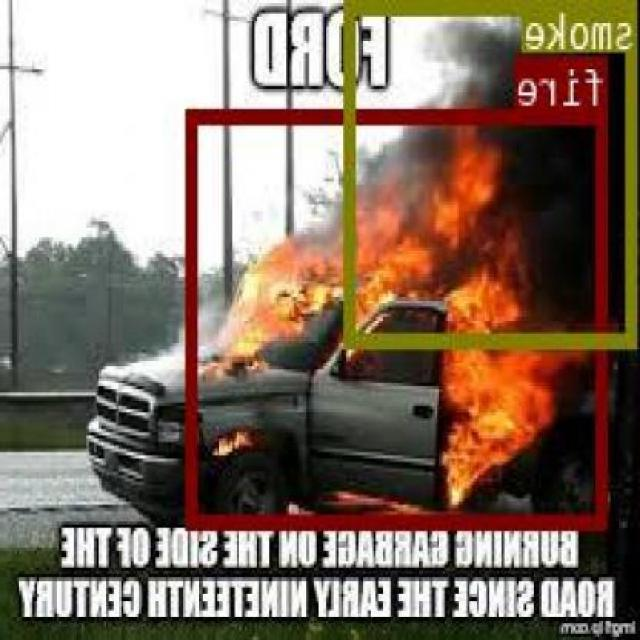Fire: (190, 105, 608, 527)
Smoke: (346, 0, 640, 346)
